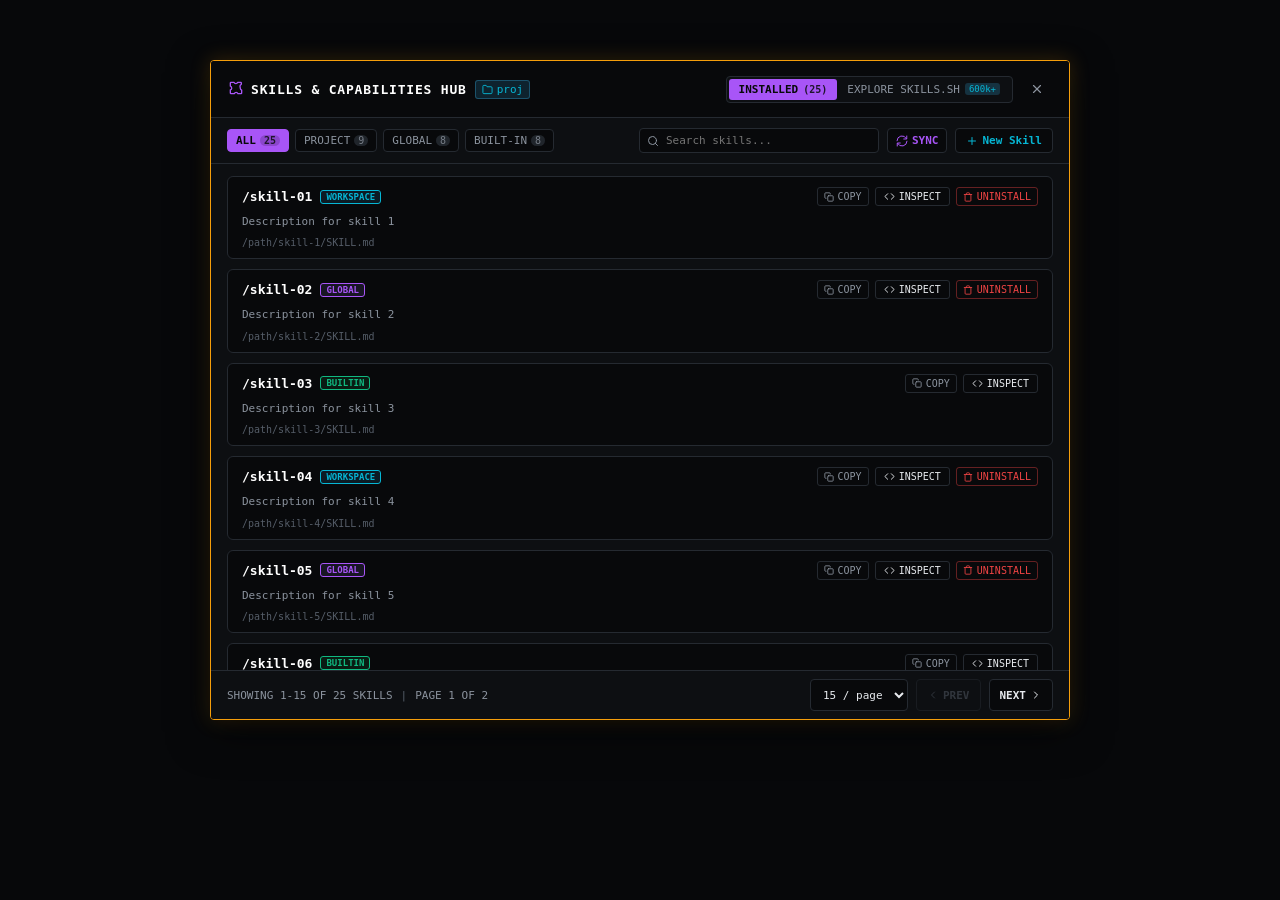
Test: SkillsManagementModal › navigates to next page on NEXT button click
expect the text "/skill-01" is shown: met, box x1=242 y1=189 x2=312 y2=204
Select "10 / page" in the dropdown named "Items per page": (859, 695) x1=810 y1=679 x2=908 y2=711
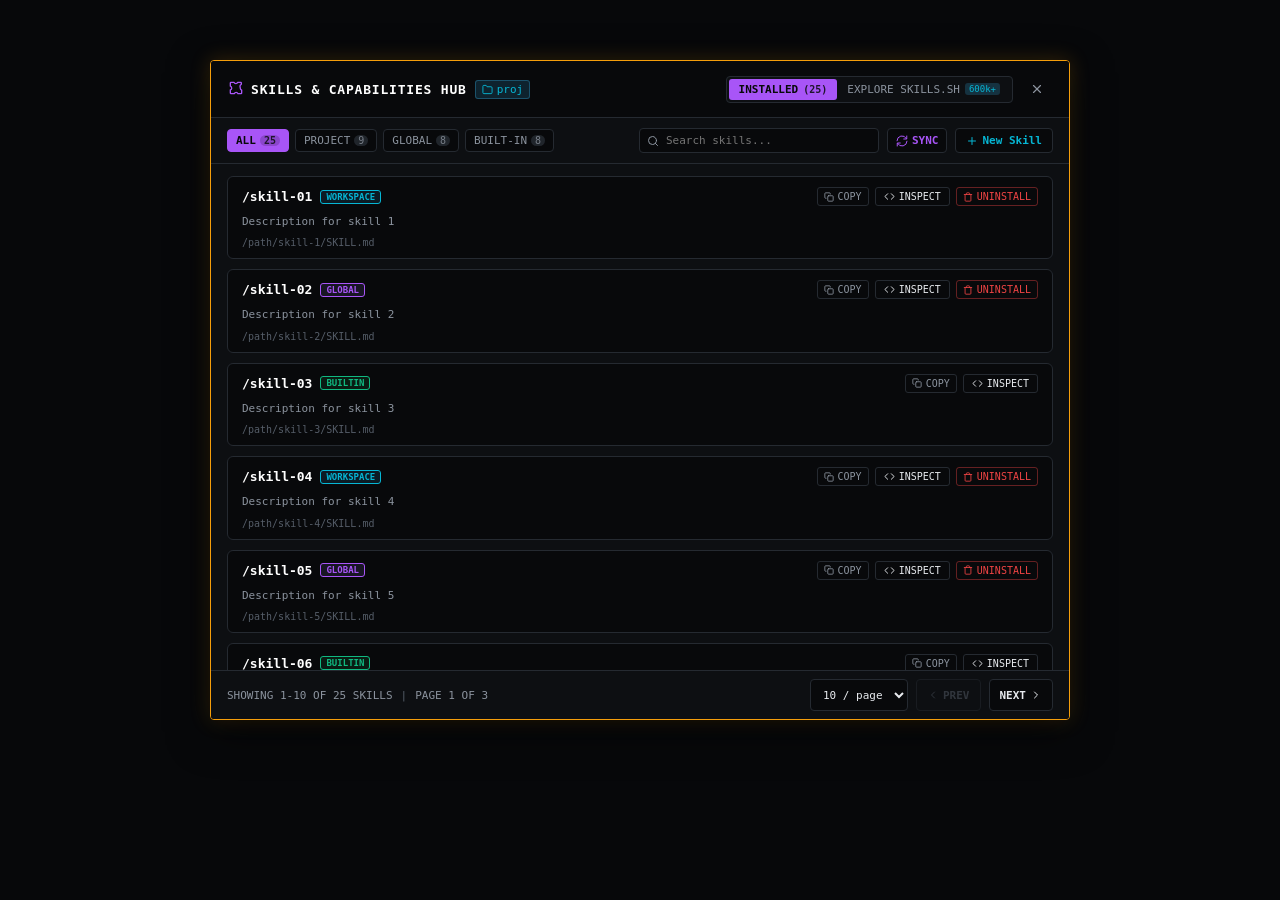
Click the button "NEXT": (1021, 695) x1=988 y1=679 x2=1053 y2=711
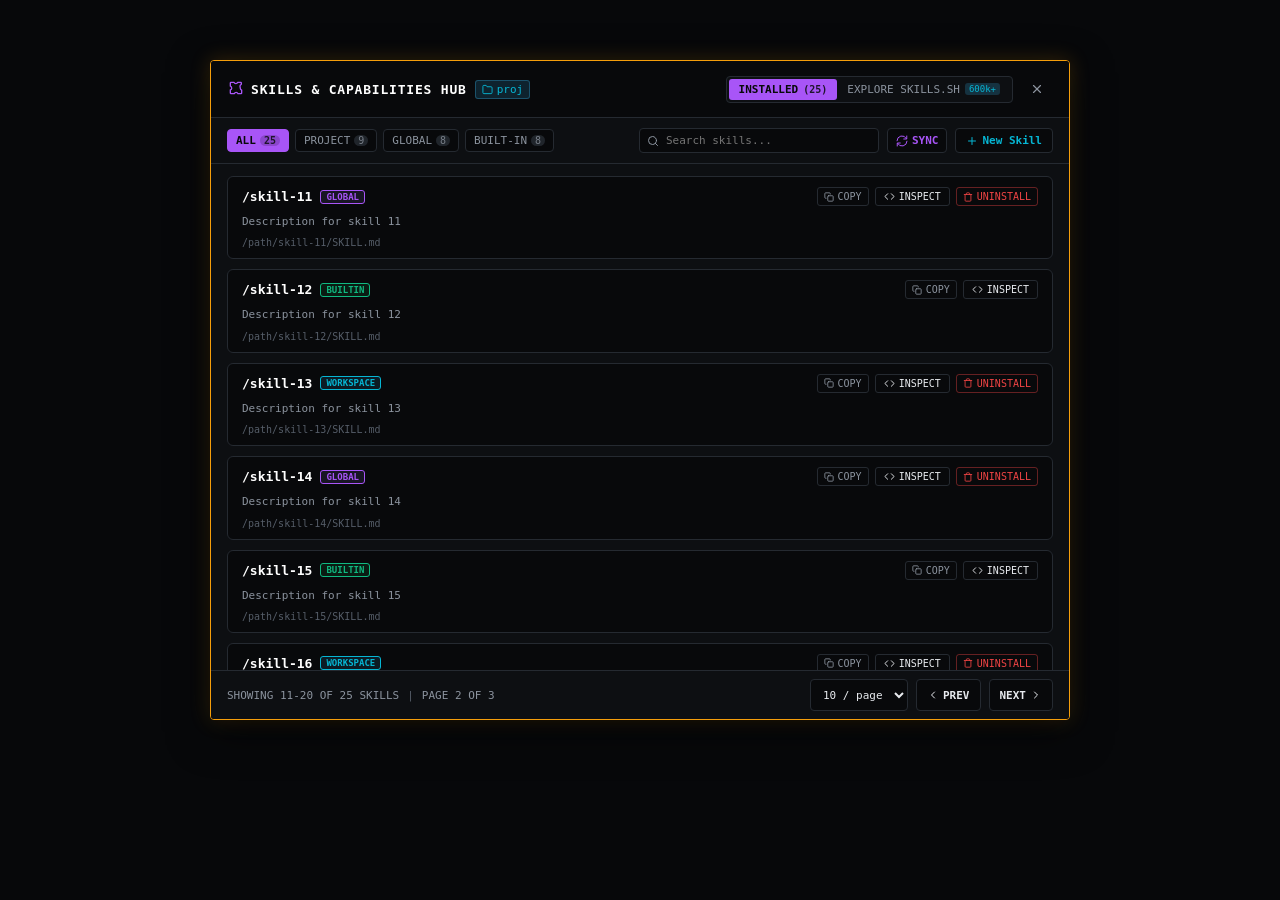
expect the text "PAGE 2 OF 3" is shown: met, box x1=422 y1=688 x2=495 y2=702
expect the text "SHOWING 11-20 OF 25 SKILLS" is shown: met, box x1=227 y1=688 x2=399 y2=702
expect the text "/skill-01" is gone: met
